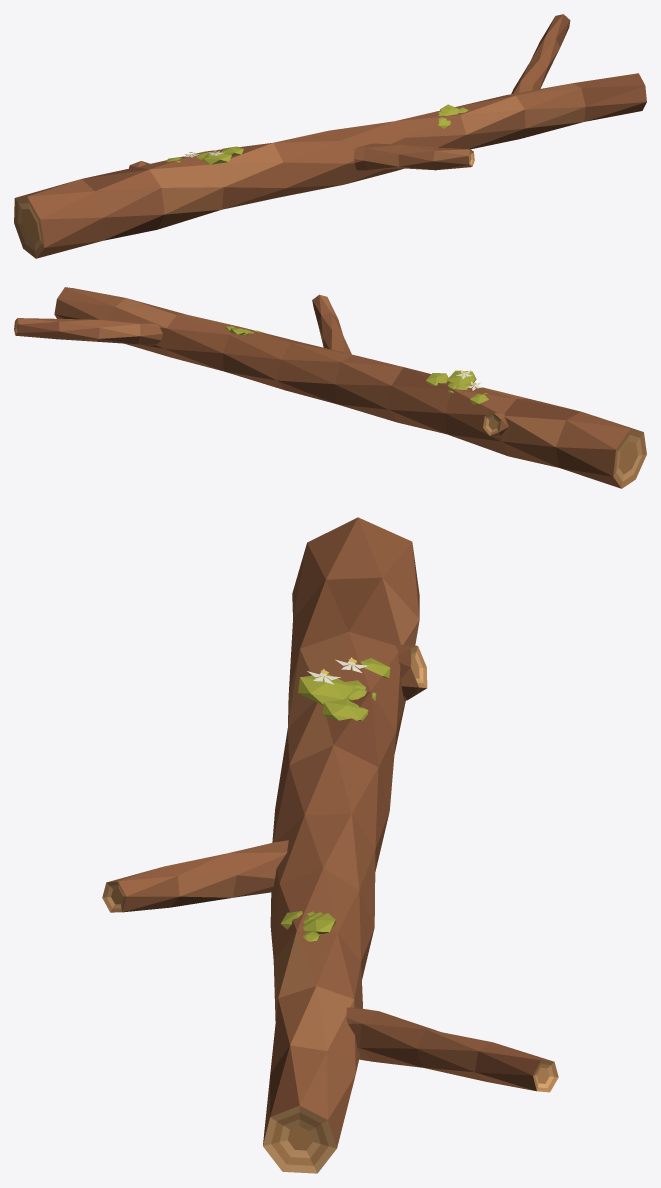
Rendered from Stick.fbx.
3 views of the same model, one above another, from view 1: azimuth 30°, elevation 25°; view 2: azimuth 150°, elevation 25°; view 3: azimuth 270°, elevation 25° (orthographic). The views are drawn at different scales.
Parts seen in each view (by area): view 1: Stick; view 2: Stick; view 3: Stick.
Boxes of the visible parts, x1,y1,x2,y2 form: Stick: (14,14,646,258); Stick: (14,287,646,488); Stick: (102,517,558,1173).
Size of the model in its own units: 1.4 by 0.1521 by 0.477.
